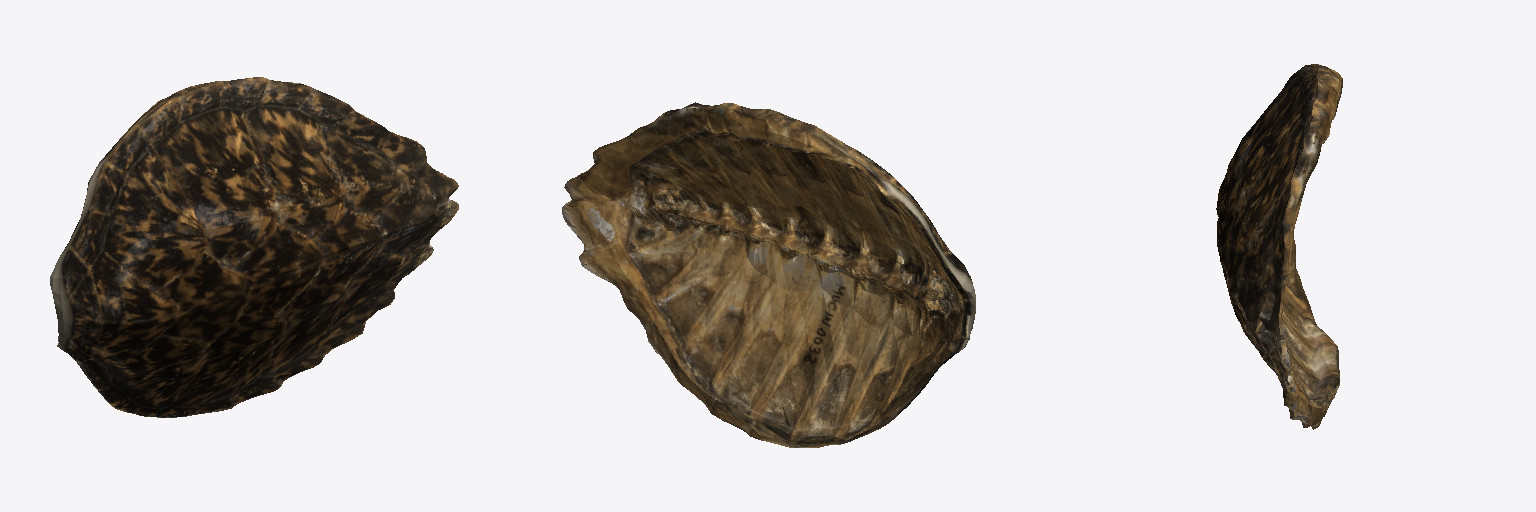
The picture shows the model from 3 angles: view 1: azimuth 30°, elevation 25°; view 2: azimuth 150°, elevation 25°; view 3: azimuth 270°, elevation 25°; orthographic projection.
Visible parts, largest first — view 1: polySurface1; view 2: polySurface1; view 3: polySurface1.
Boxes of the visible parts, x1=… form: polySurface1: x1=50, y1=77, x2=458, y2=417; polySurface1: x1=562, y1=102, x2=975, y2=447; polySurface1: x1=1216, y1=64, x2=1342, y2=429.
Size of the model in its own units: 298 by 231 by 80.37.
1 materials, 1 textured.